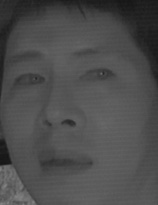eye: (9, 69, 47, 92), (76, 66, 116, 87)
mouth: (35, 143, 94, 179)
